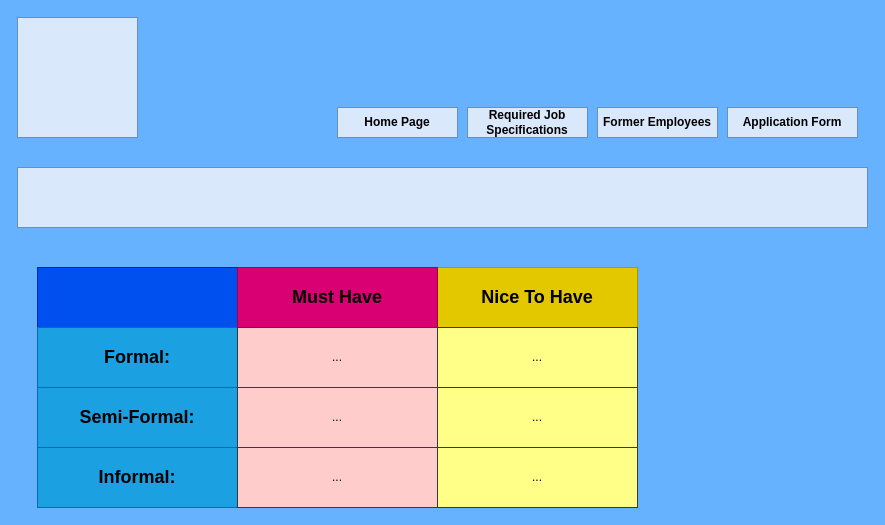
The diagram is 885 pixels wide and 525 high, and some of its shapes have lost their labels. Each missing label, with the centre of its shape:
"Job Specification" belongs at point (442, 197).
"Logo" belongs at point (77, 77).
